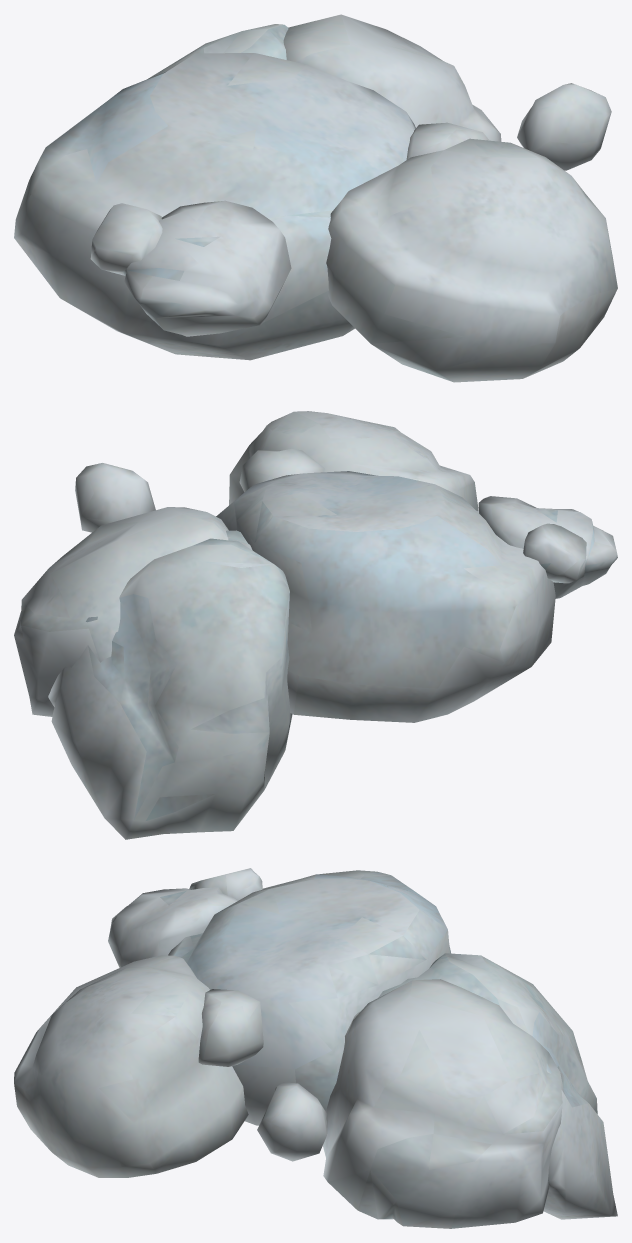
File: P_RockDesert_Clump06.obj
The picture shows the model from 3 angles, top to bottom: view 1: azimuth 30°, elevation 25°; view 2: azimuth 150°, elevation 25°; view 3: azimuth 270°, elevation 25°; orthographic projection. The views are drawn at different scales.
Size of the model in its own units: 4.31 by 2.27 by 4.67.
